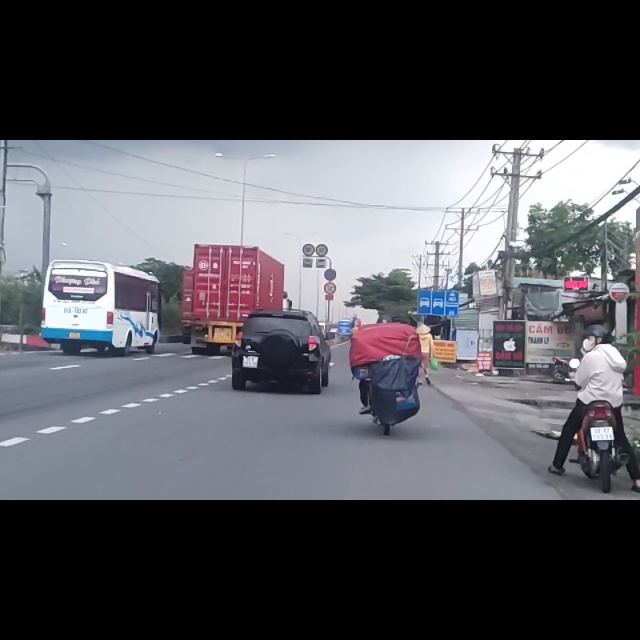bien_chi_dan: (417, 265, 459, 314), (322, 228, 337, 251), (324, 254, 336, 273)
